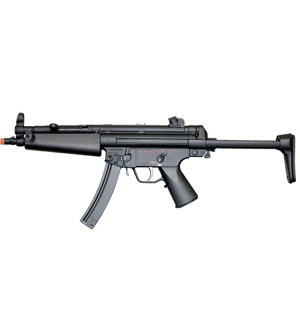rifle: (5, 99, 297, 231)
